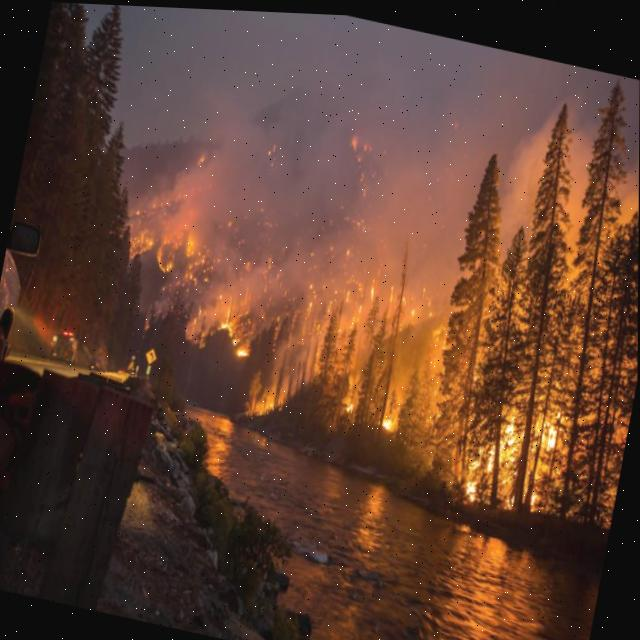fire: (131, 169, 639, 510)
smoke: (125, 11, 615, 322)
